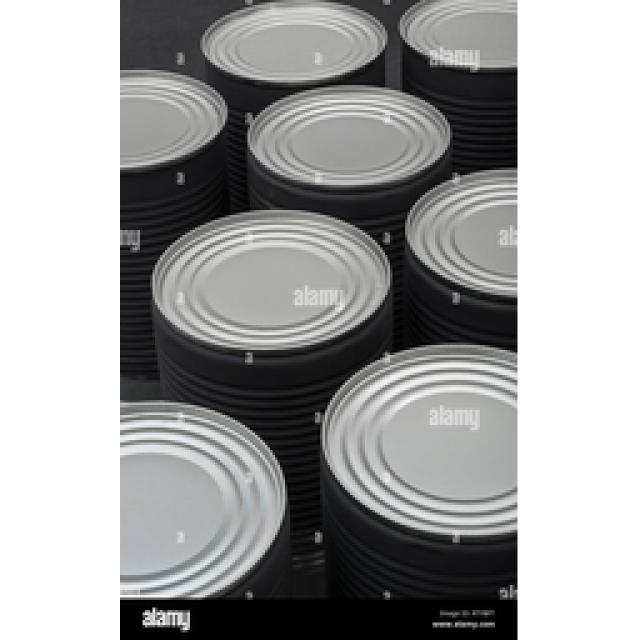alumunium: (120, 0, 512, 595)
